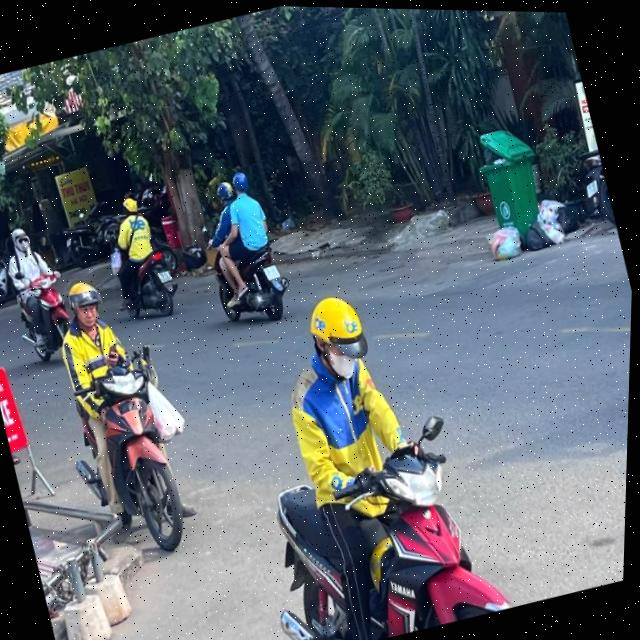motorcycle: (235, 391, 564, 640), (61, 344, 208, 573), (204, 237, 302, 334), (6, 266, 83, 369), (113, 245, 188, 326), (0, 235, 19, 313)
